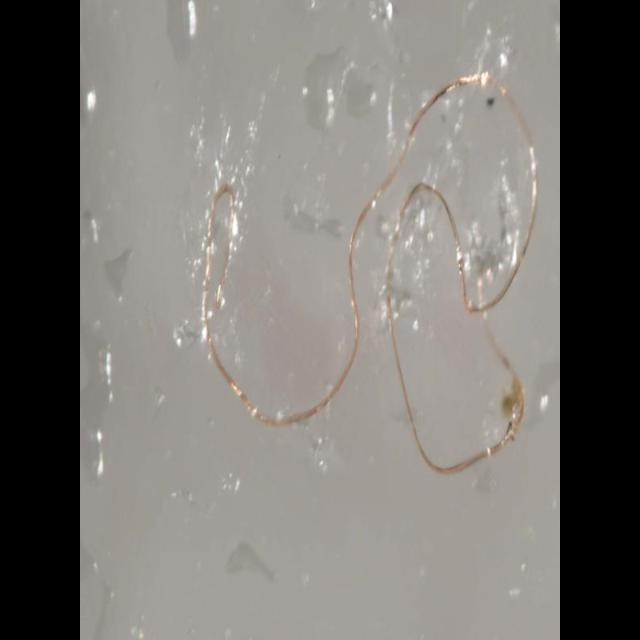Fibre: (202, 68, 538, 476)
